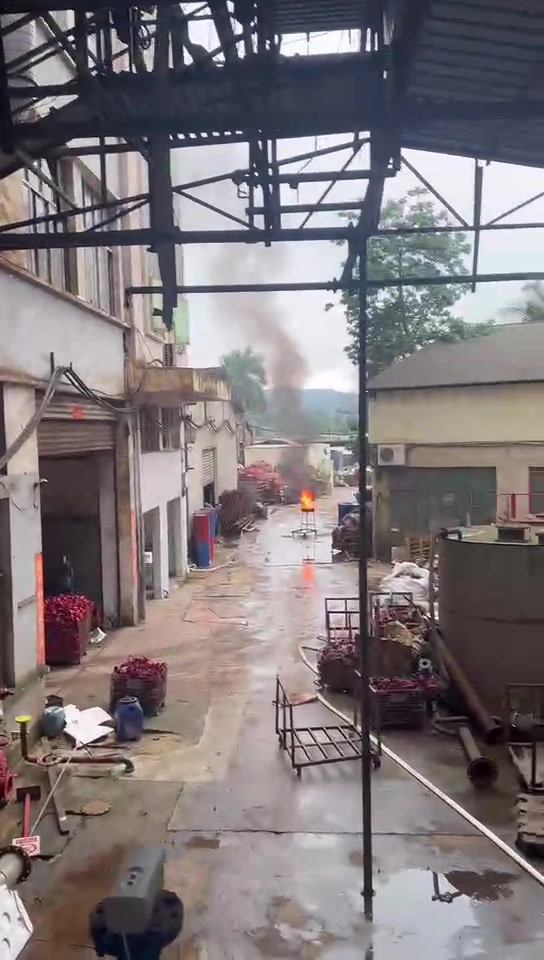fire: (299, 489, 313, 508)
